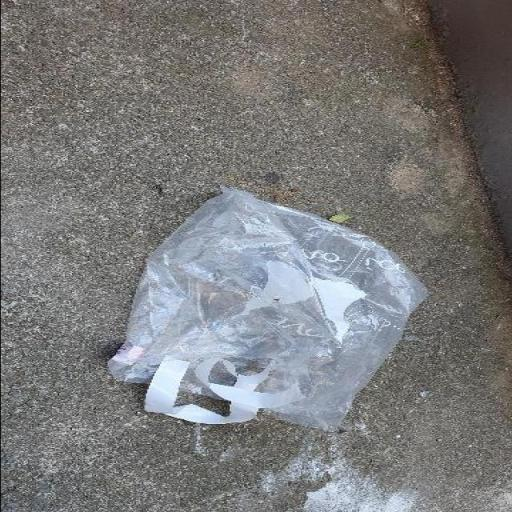plastic-bag: (96, 187, 436, 433)
